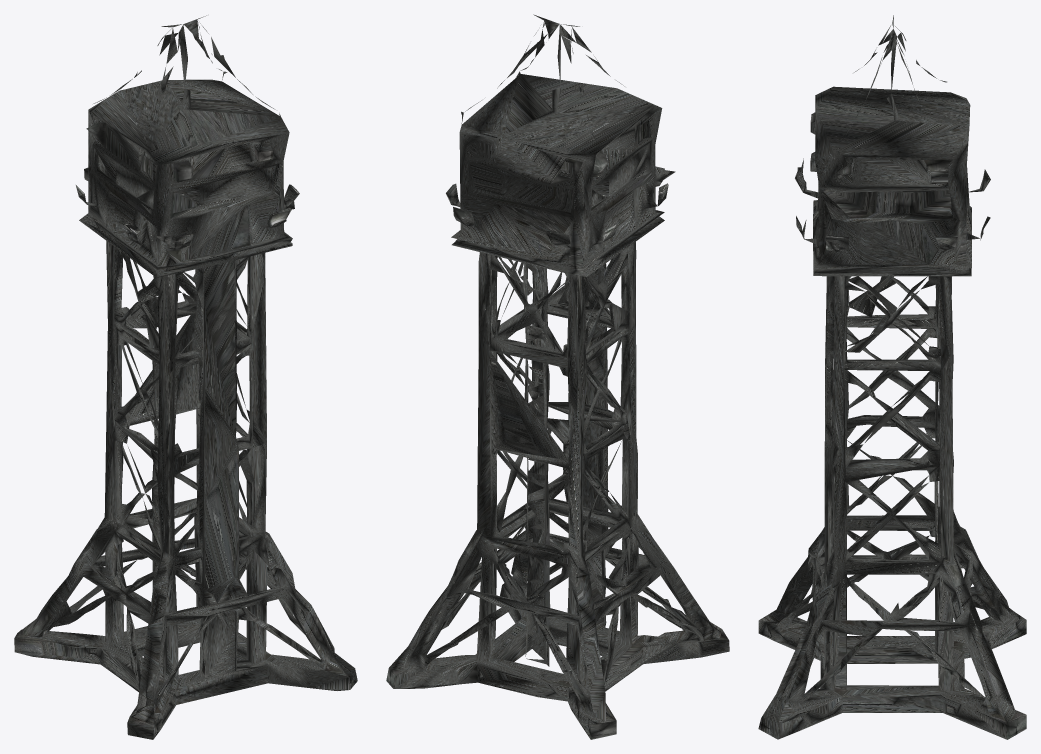
The model's file is wobanitower.lod1.glb.
3 renders of one model, left to right at view 1: azimuth 30°, elevation 25°; view 2: azimuth 150°, elevation 25°; view 3: azimuth 270°, elevation 25°, orthographic.
Visible parts, largest first — view 1: wobanitower-centred; view 2: wobanitower-centred; view 3: wobanitower-centred.
Part boxes in pixels (<box>): wobanitower-centred: <box>14,15,357,739</box>; wobanitower-centred: <box>386,14,729,739</box>; wobanitower-centred: <box>758,15,1026,739</box>.
Bounding box in the file's own units: 8.48 × 22.78 × 8.43.
Materials: 1 (1 with a texture image).
